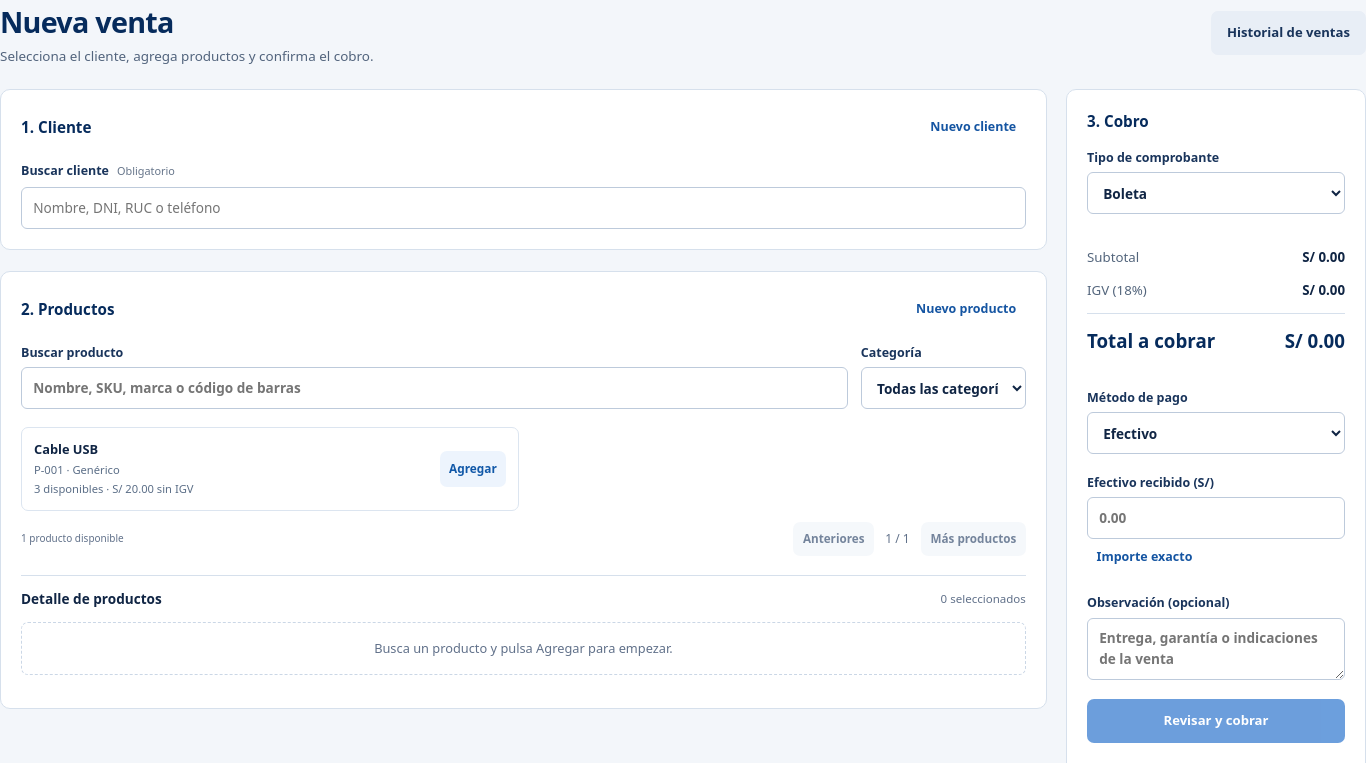
Scenario: SalePage › INC-01: explica en la página que el efectivo no cubre el total y marca el campo
Type "Cliente de Prueba" into the dropdown labelled "Buscar cliente".
click(523, 208); type("Cliente de Prueba")  # box [21,187,1026,229]
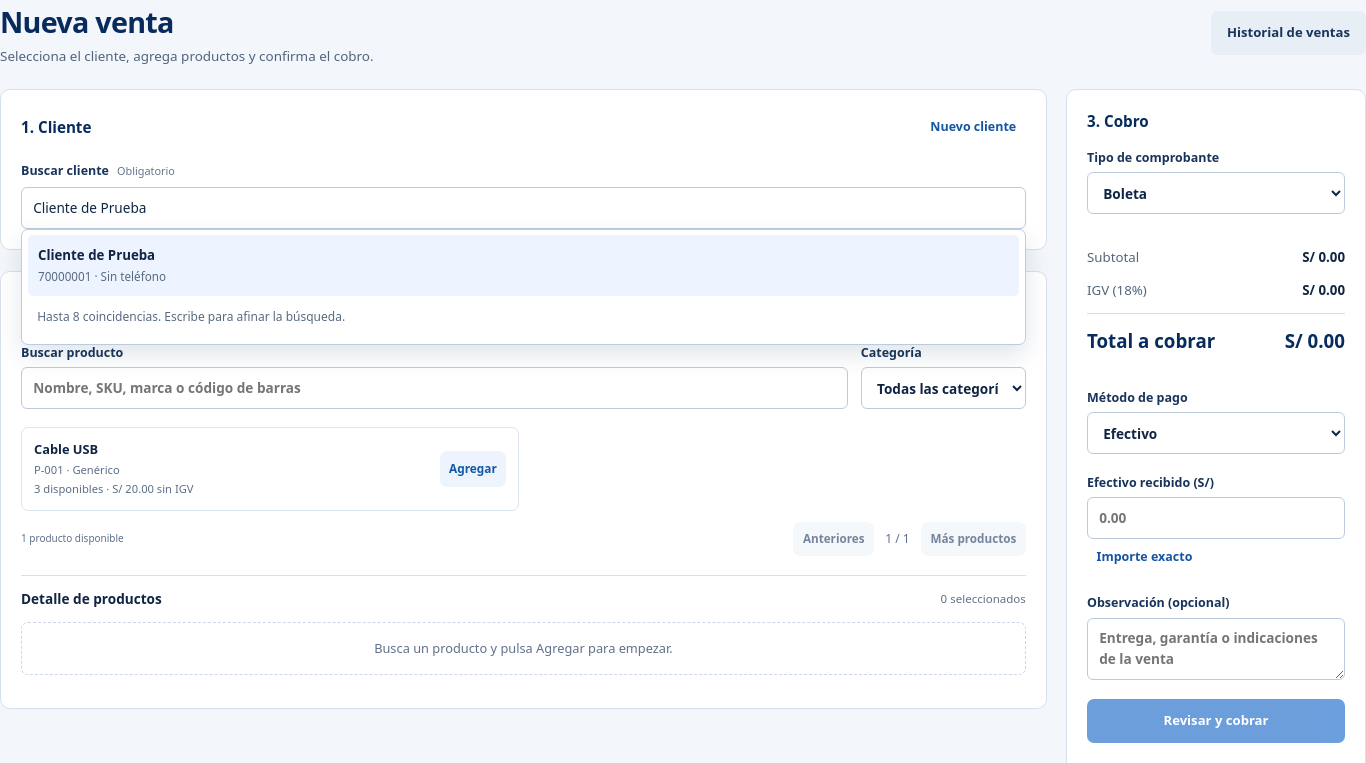
Click the option "Cliente de Prueba 70000001 · Sin teléfono".
click(97, 255)  # box [28,236,1019,296]
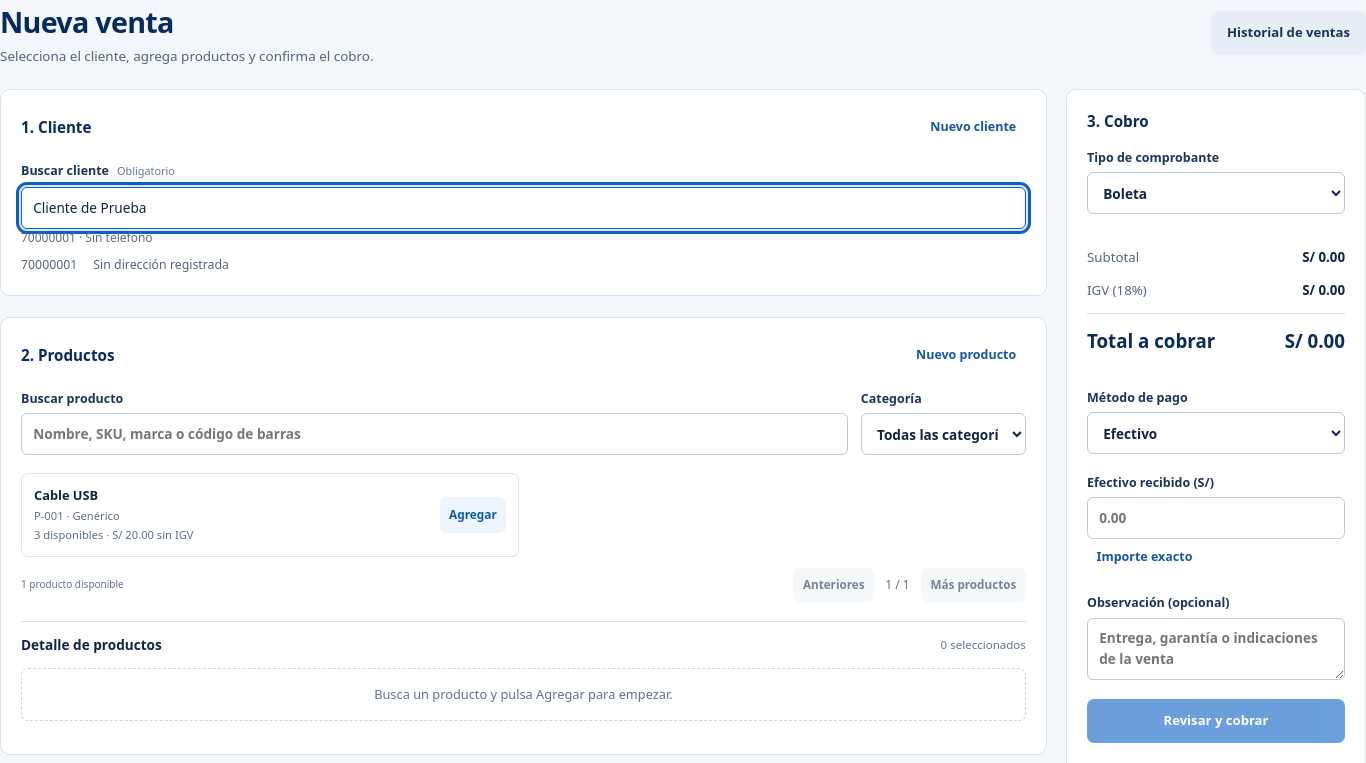
Click the button with aria-label "Agregar Cable USB".
click(473, 515)  # box [440,497,506,533]
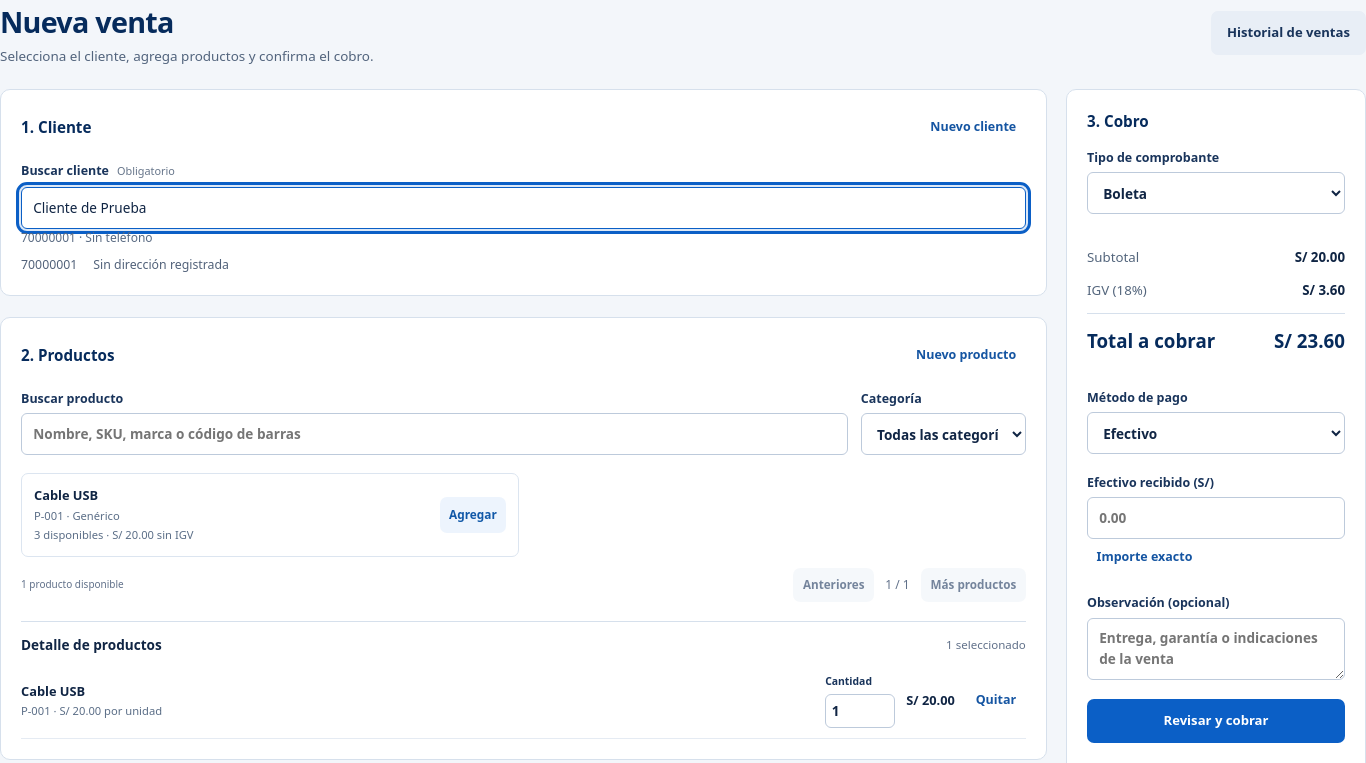
Type "10" into the number field labelled "Efectivo recibido (S/)".
click(1216, 518); type("10")  # box [1087,497,1345,539]
(page scrolled)
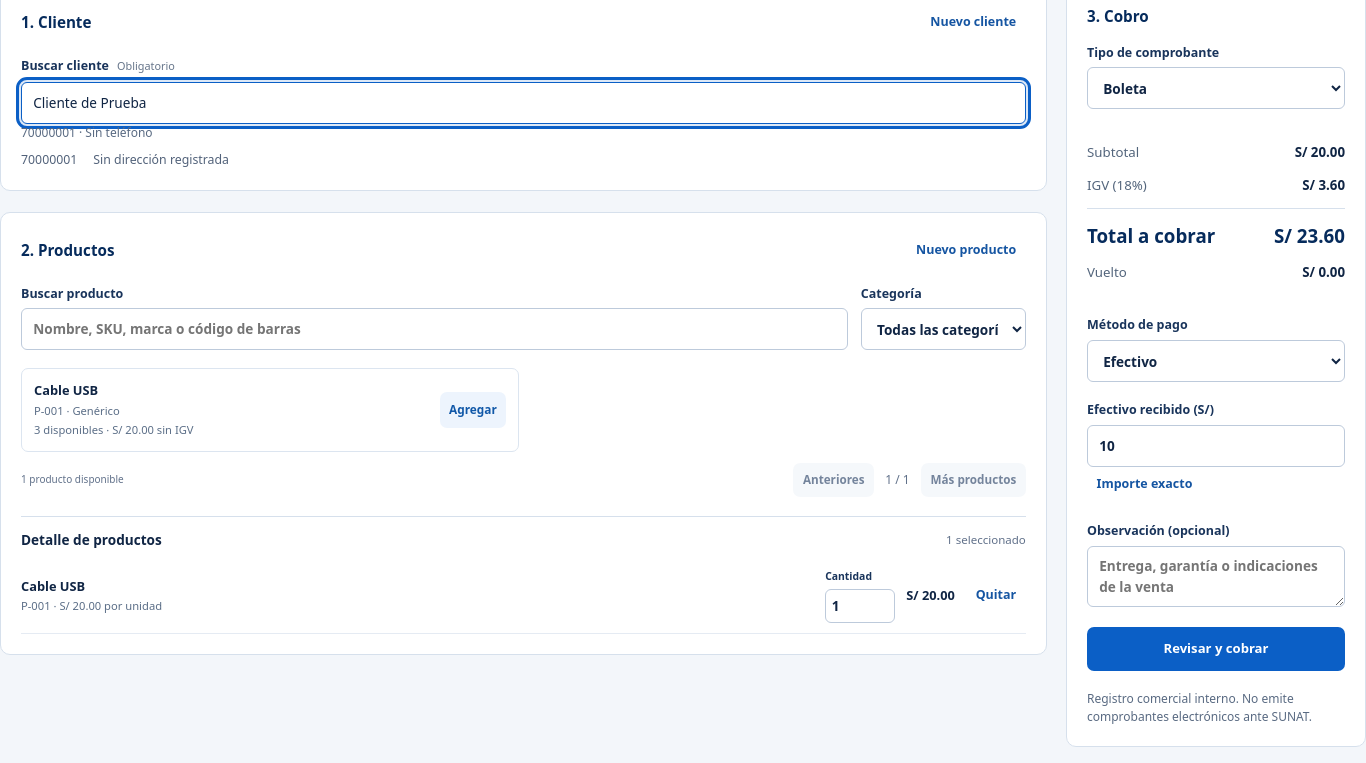
Click the button "Revisar y cobrar".
click(1216, 649)  # box [1087,627,1345,671]
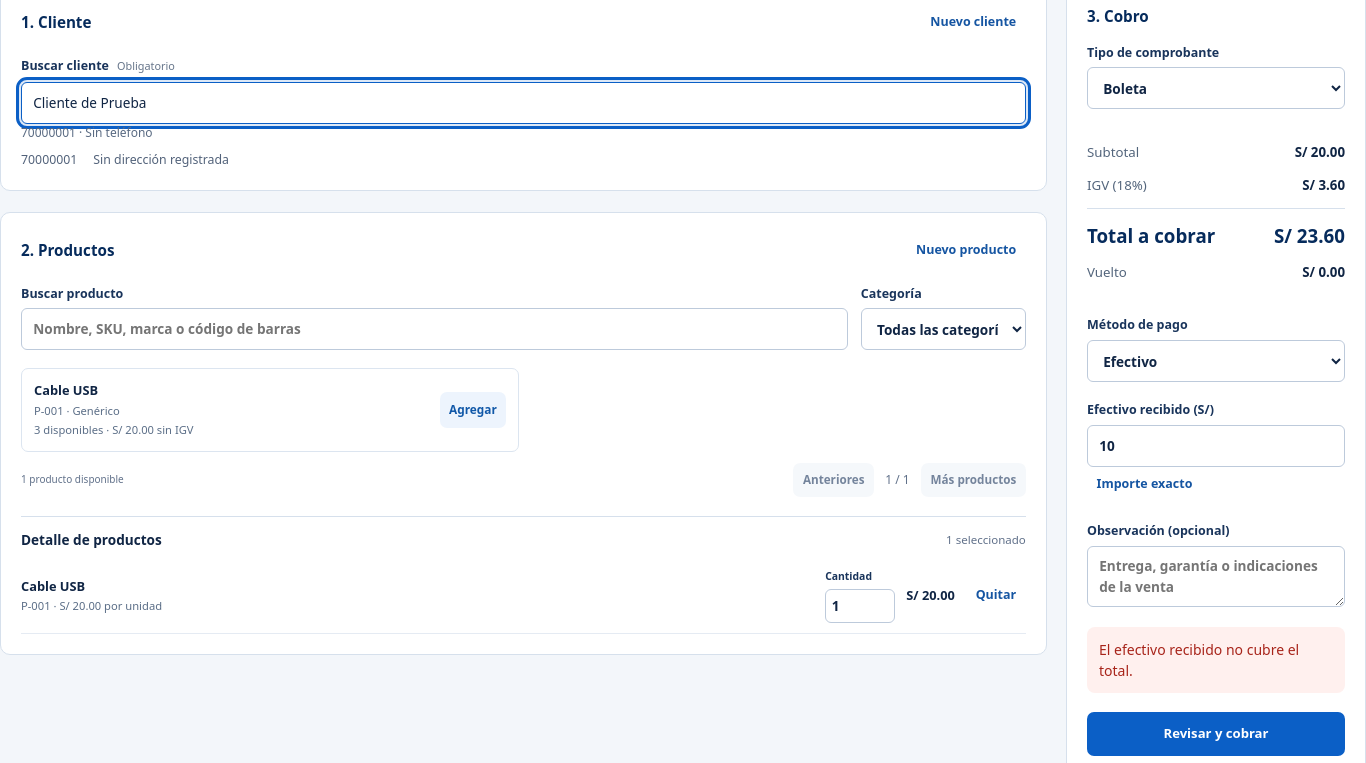
Result: the message reads "El efectivo recibido no cubre el total." at [1099,640,1299,680]
